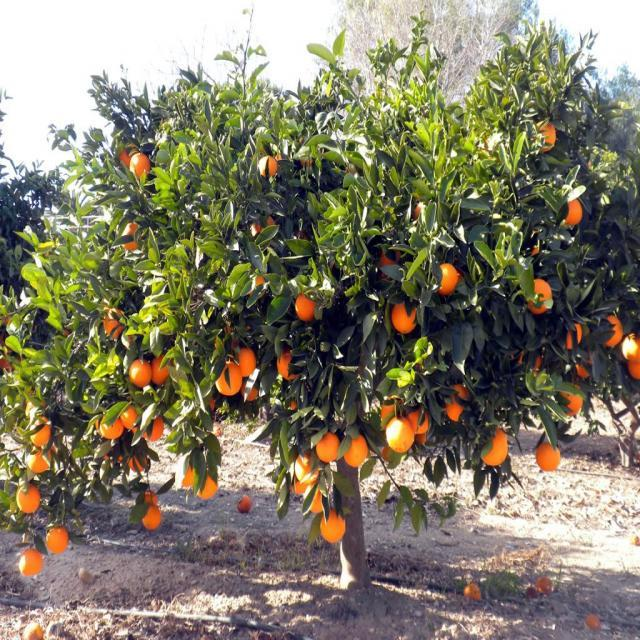Jeruk Sudah Matang: (480, 430, 510, 468), (527, 277, 553, 315), (232, 343, 258, 380), (384, 419, 413, 452), (214, 362, 241, 397), (294, 448, 320, 484), (536, 115, 558, 157), (96, 409, 124, 442), (193, 468, 220, 501), (128, 149, 152, 185), (436, 260, 459, 297), (24, 446, 53, 475), (14, 484, 39, 516), (559, 195, 584, 227), (150, 352, 172, 388), (342, 437, 368, 467), (128, 355, 152, 387), (27, 416, 54, 444), (536, 442, 561, 472), (319, 512, 344, 542), (601, 314, 623, 348), (18, 548, 42, 578), (390, 305, 415, 333), (43, 528, 68, 556), (255, 152, 280, 180), (314, 434, 338, 463), (619, 332, 640, 365), (293, 296, 314, 321), (140, 503, 159, 530)
